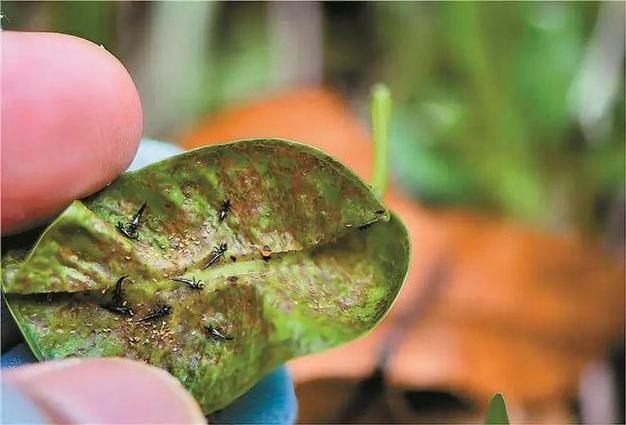Phlaeothripidae: (200, 240, 230, 274), (135, 303, 171, 329), (126, 202, 146, 239), (171, 274, 206, 294), (203, 323, 236, 343), (110, 274, 128, 310), (215, 199, 233, 227)
